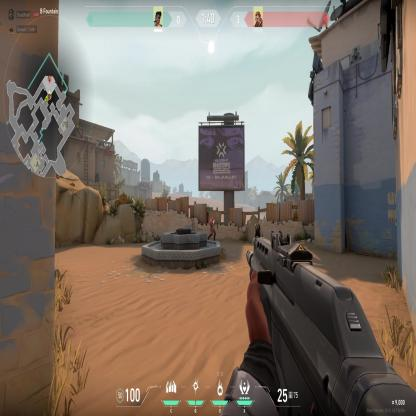enemy: (208, 215, 216, 243)
